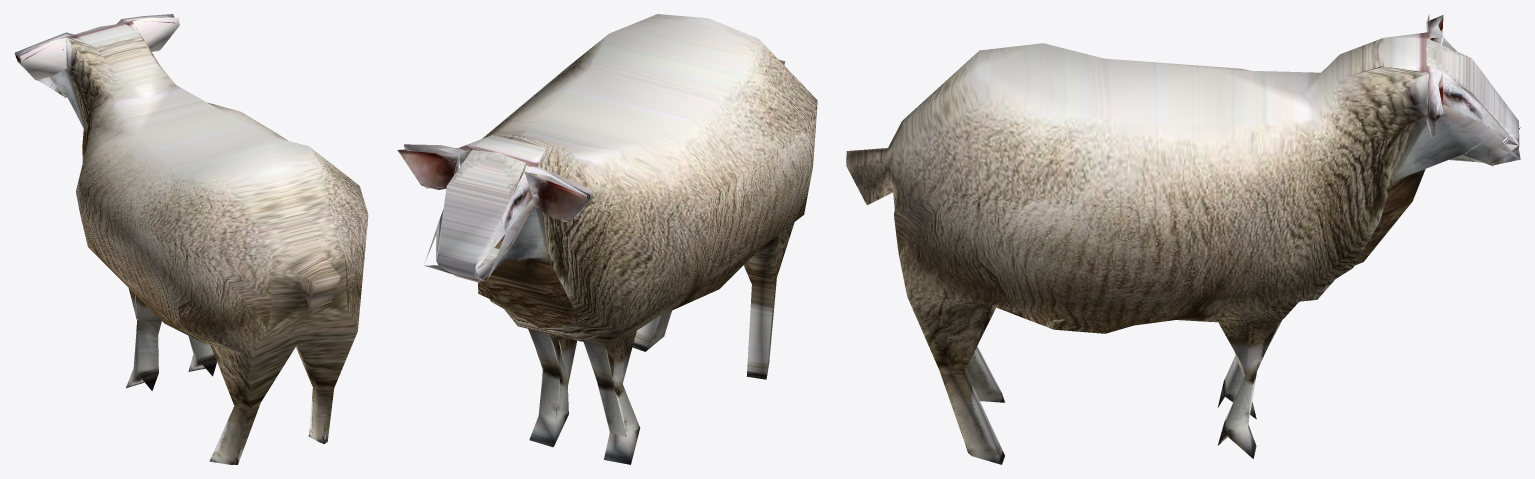
The model's file is sheep_lod1.glb.
3 renders of one model, left to right at view 1: azimuth 30°, elevation 25°; view 2: azimuth 150°, elevation 25°; view 3: azimuth 270°, elevation 25°, orthographic. The views are drawn at different scales.
Parts seen in each view (by area): view 1: Cube; view 2: Cube; view 3: Cube.
Part boxes in pixels (x1,y1,x2,y2): Cube: (14,14,368,464); Cube: (397,14,817,464); Cube: (846,14,1520,464).
Size of the model in its own units: 1.25 by 1.8 by 2.87.
1 material, 1 textured.
